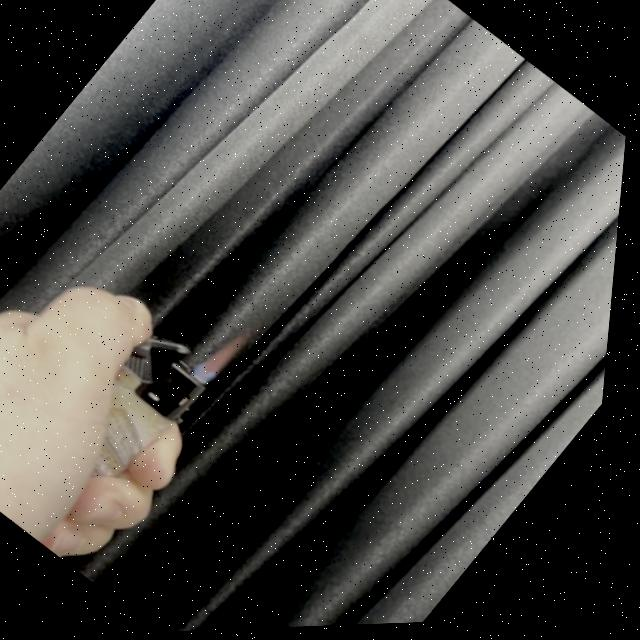Fire: (195, 327, 256, 392)
